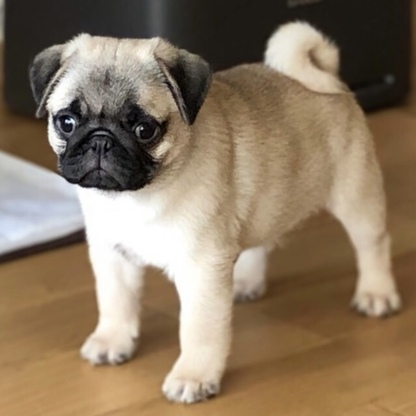Pug: (23, 17, 408, 407)
